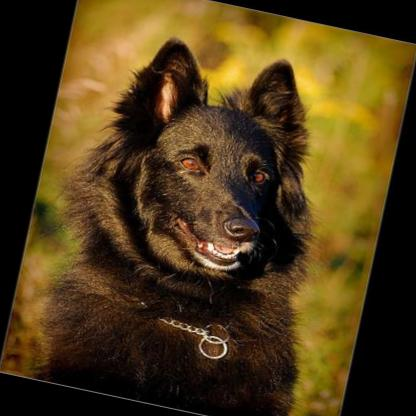groenendael: (10, 13, 367, 416)
